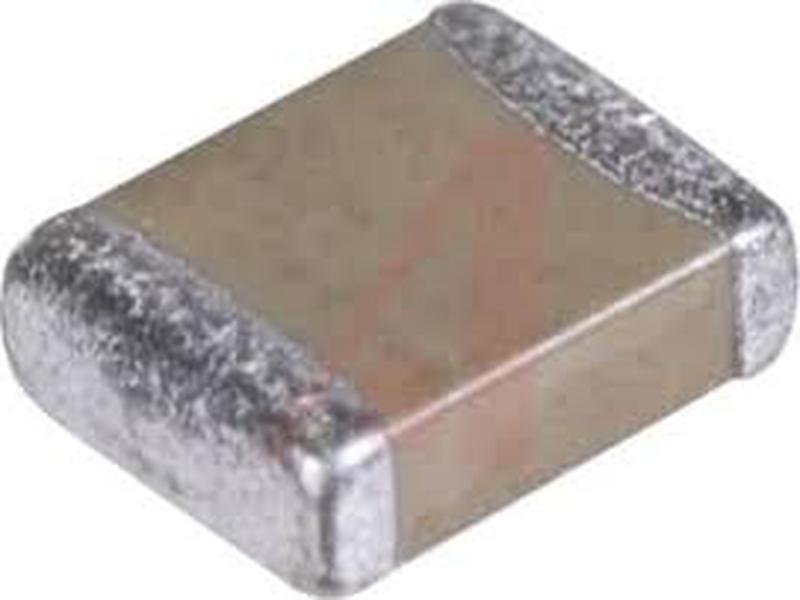SMD capacitor: (9, 4, 792, 599)
